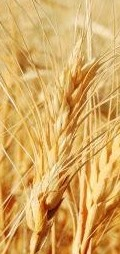Healthy Wheat: (31, 52, 102, 225)
